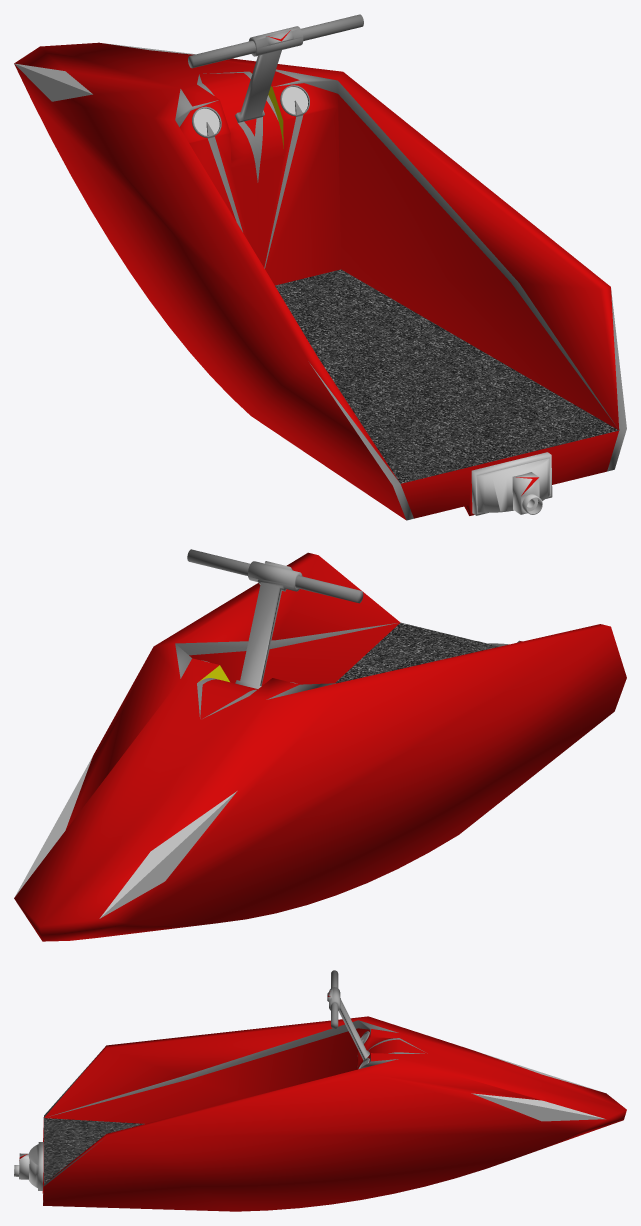
File: Jetski.gltf
3 views of the same model, one above another, from view 1: azimuth 30°, elevation 25°; view 2: azimuth 150°, elevation 25°; view 3: azimuth 270°, elevation 25° (orthographic). The views are drawn at different scales.
Parts seen in each view (by area): view 1: Object_408, Object_61, Object_417, Object_249, Object_252, Object_273, Object_471, Object_52, Object_300, Object_288, Object_418, Object_421 (+3 smaller); view 2: Object_408, Object_61, Object_252, Object_471, Object_249, Object_470, Object_418, Object_270; view 3: Object_408, Object_61, Object_409, Object_470, Object_252, Object_273.
Part boxes in pixels (bbox=[...]): Object_408: bbox=[14, 42, 619, 519]; Object_61: bbox=[275, 269, 618, 483]; Object_417: bbox=[400, 430, 618, 518]; Object_249: bbox=[273, 69, 616, 426]; Object_252: bbox=[235, 26, 303, 122]; Object_273: bbox=[477, 458, 550, 512]; Object_471: bbox=[14, 63, 92, 101]; Object_52: bbox=[607, 288, 626, 471]; Object_300: bbox=[310, 364, 413, 520]; Object_288: bbox=[471, 452, 552, 515]; Object_418: bbox=[188, 41, 255, 68]; Object_421: bbox=[264, 85, 309, 268]; Object_408: bbox=[14, 552, 626, 941]; Object_61: bbox=[335, 622, 498, 683]; Object_252: bbox=[235, 561, 302, 688]; Object_471: bbox=[99, 791, 237, 918]; Object_249: bbox=[175, 623, 397, 678]; Object_470: bbox=[14, 756, 92, 897]; Object_418: bbox=[295, 575, 363, 603]; Object_270: bbox=[187, 549, 250, 575]; Object_408: bbox=[43, 1016, 626, 1211]; Object_61: bbox=[44, 1118, 144, 1183]; Object_409: bbox=[49, 1020, 398, 1116]; Object_470: bbox=[471, 1093, 605, 1121]; Object_252: bbox=[327, 987, 369, 1060]; Object_273: bbox=[29, 1144, 38, 1187].
Size of the model in its own units: 3452 by 3306 by 9750.
Materials: 11 (1 with a texture image).
